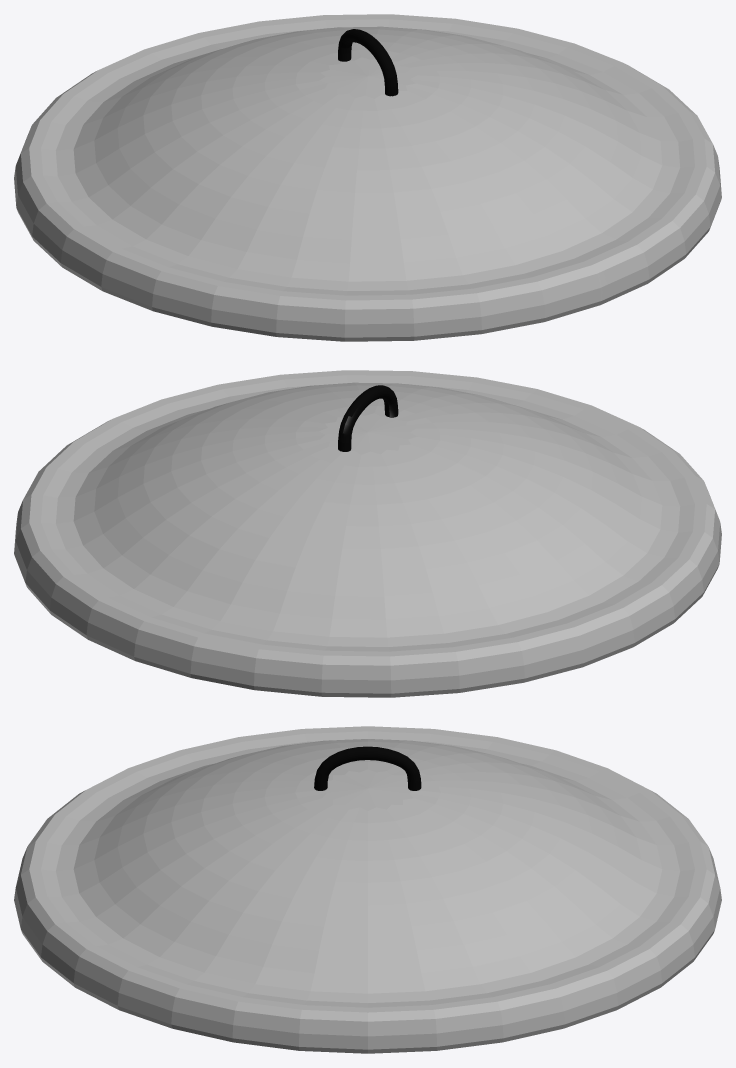
File: Pot_Lid.fbx
3 views of the same model, one above another, from view 1: azimuth 30°, elevation 25°; view 2: azimuth 150°, elevation 25°; view 3: azimuth 270°, elevation 25° (orthographic).
Visible parts, largest first — view 1: Pot_Lid; view 2: Pot_Lid; view 3: Pot_Lid.
Part boxes in pixels (left/top/right/bottom): Pot_Lid: left=14, top=14, right=721, bottom=341; Pot_Lid: left=14, top=370, right=721, bottom=697; Pot_Lid: left=14, top=726, right=721, bottom=1053.
Size of the model in its own units: 193 by 47.45 by 193.
